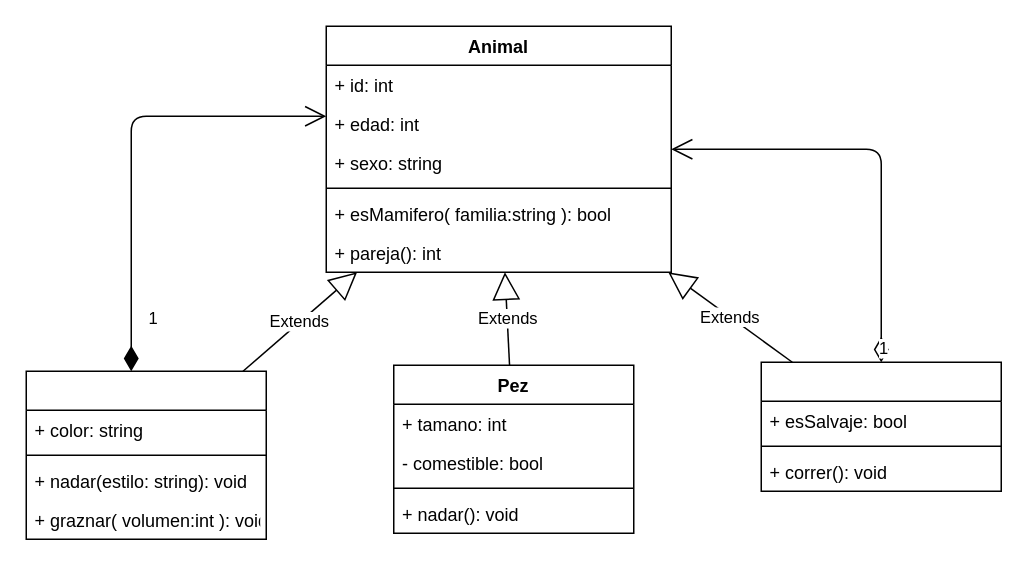
This 1028x570 diagram has some shape labels left out. Here are the shapes that lost their labels. From the top down, the box of each, then its label:
(760, 361, 1001, 491): Zebra
(25, 370, 266, 539): Pato
